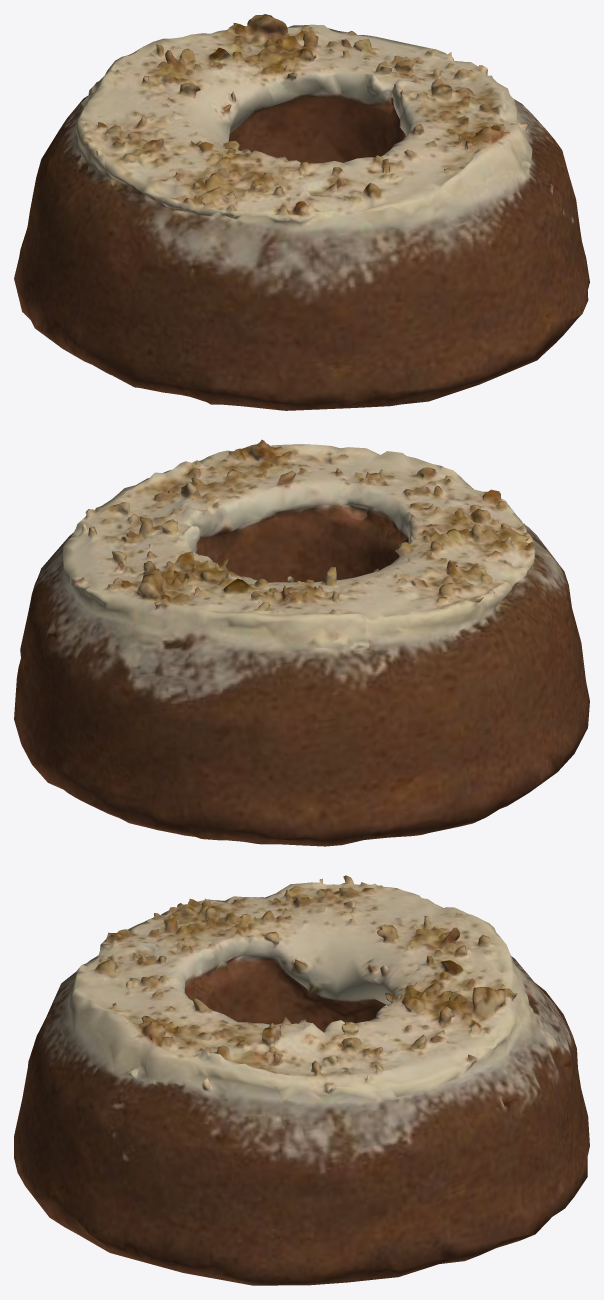
Rendered from ph_carrot_cake.glb.
3 views of the same model, one above another, from view 1: azimuth 30°, elevation 25°; view 2: azimuth 150°, elevation 25°; view 3: azimuth 270°, elevation 25° (orthographic). The views are drawn at different scales.
Parts seen in each view (by area): view 1: carrot_cake; view 2: carrot_cake; view 3: carrot_cake.
Part boxes in pixels (x1,y1,x2,y2): carrot_cake: (14,14,589,410); carrot_cake: (14,439,589,846); carrot_cake: (14,875,589,1285).
Bounding box in the file's own units: 0.2254 × 0.0976 × 0.2254.
1 material, 1 textured.
